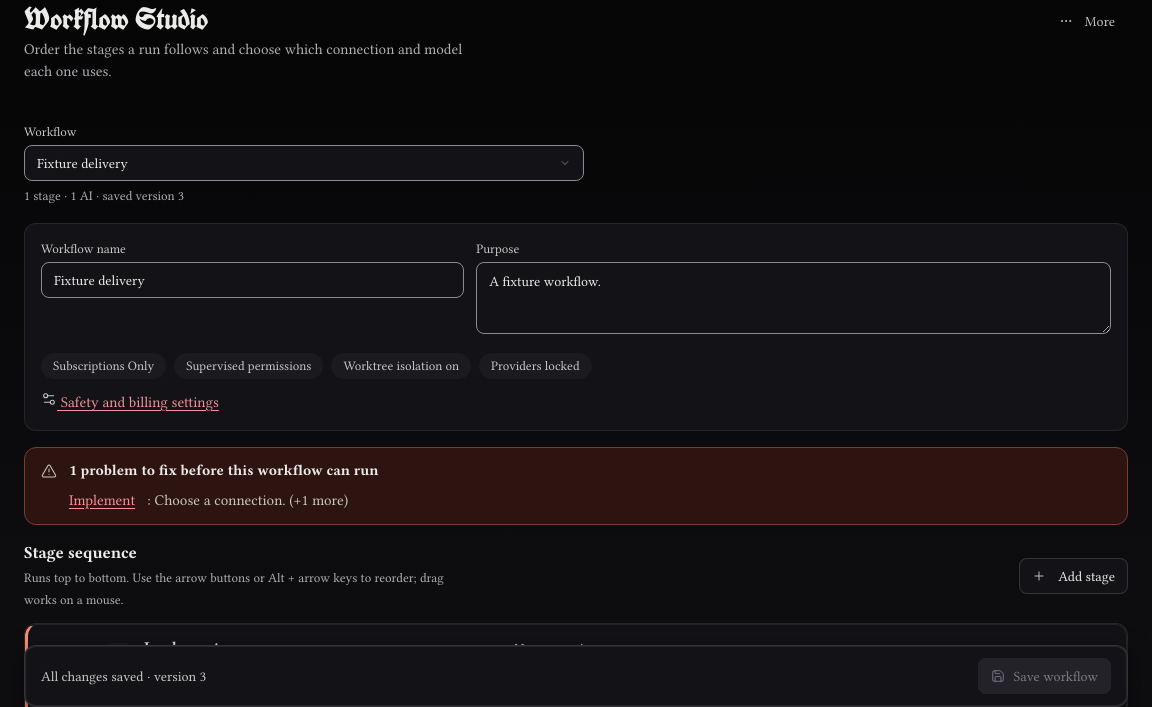
Scenario: prerequisites › lists all five together with a word for each state, not colour alone
Step 1. Click the heading "Add stage" → click(1074, 576), box [1019, 558, 1128, 594]
(page scrolled)
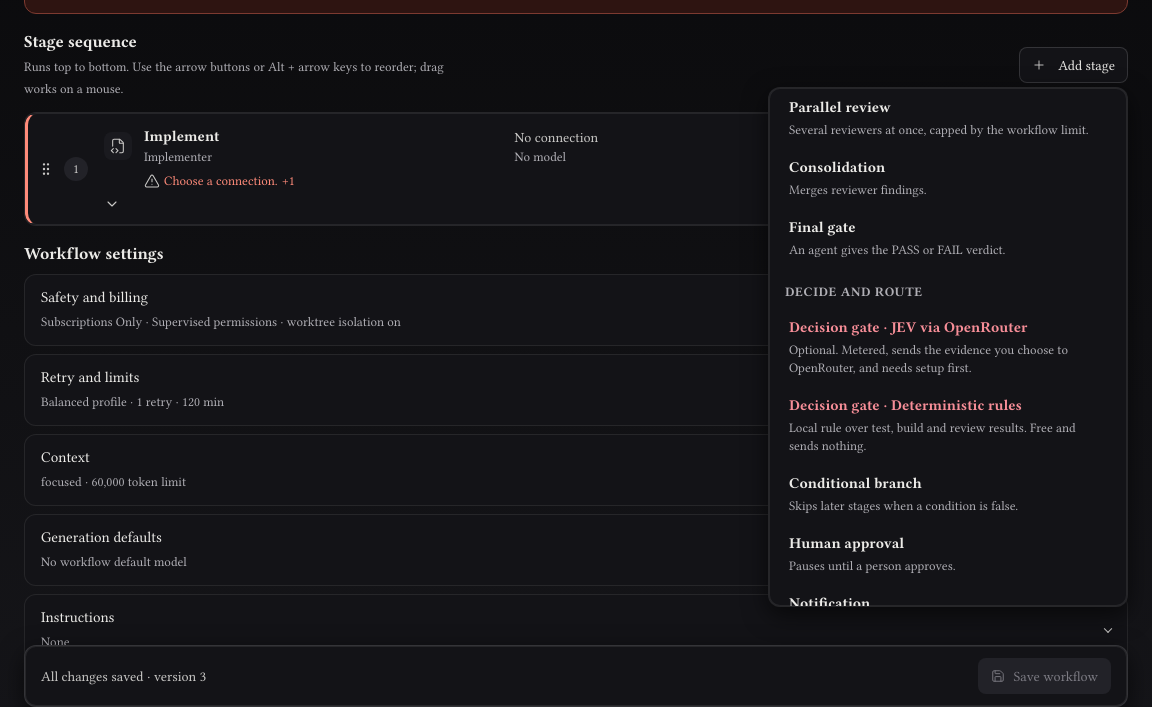
Step 2. Click the button "JEV via OpenRouter" → click(948, 347), box [777, 309, 1119, 385]
(page scrolled)
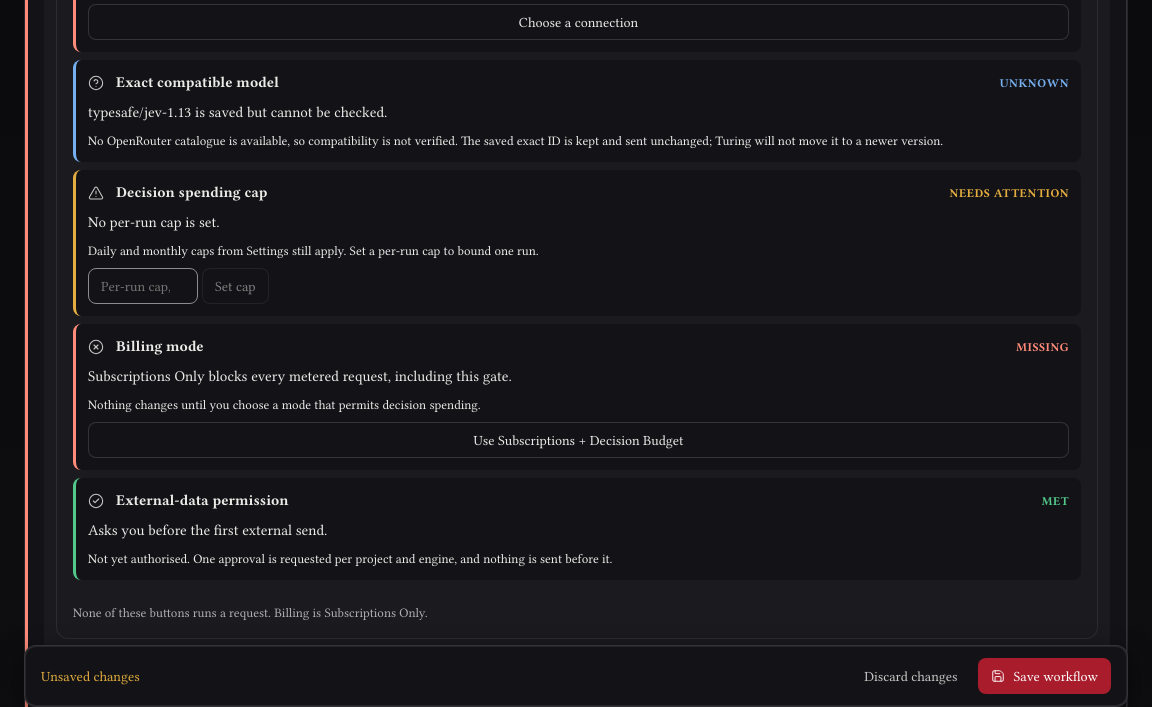
Expected: the text "Unknown" is shown, [1000, 72, 1069, 94]
Expected: the text "Needs attention" is shown, [950, 182, 1069, 204]
Expected: the text "Missing" is shown, [1016, 336, 1069, 358]
